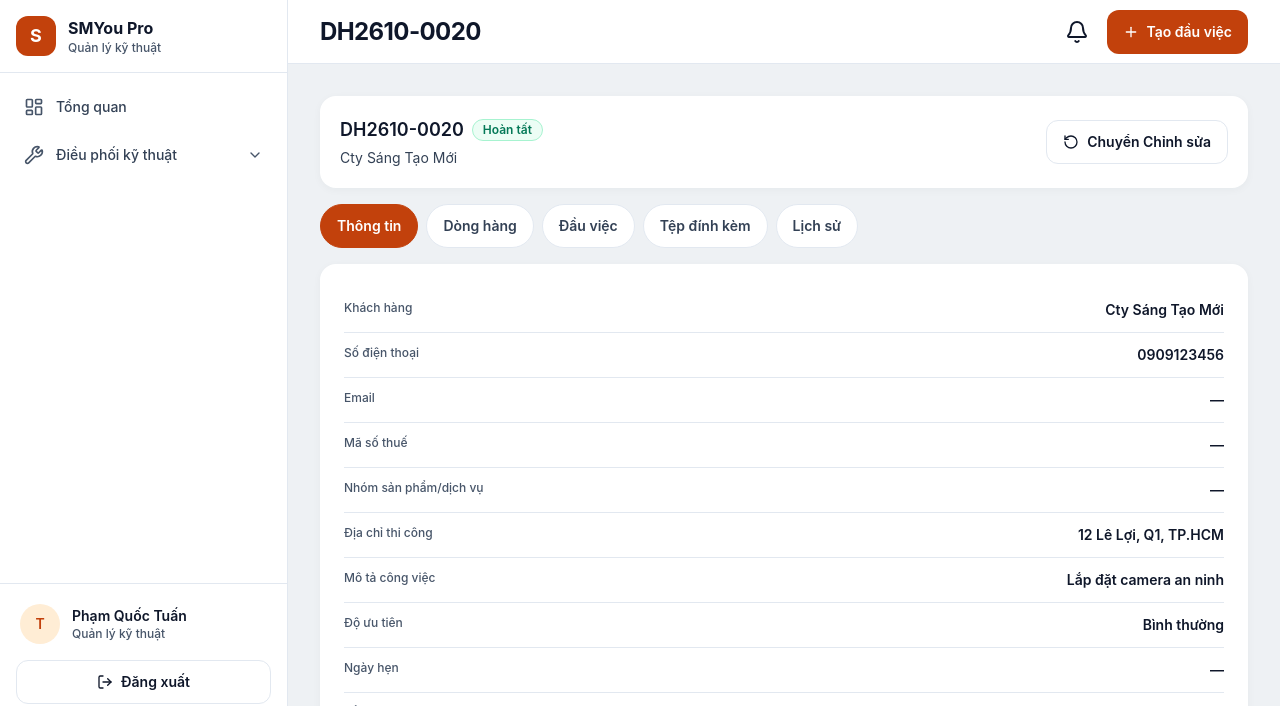
Chuyển Chỉnh sửa (M6-03b) › AC-ORD-155 STALE_VERSION khi xác nhận → banner đỏ + nút Tải lại
Expected: the heading "DH2610-0020" is shown, [320,16,481,48]
Step 1. Click the button "Chuyển Chỉnh sửa" → (1137, 142), box [1046,120,1228,164]
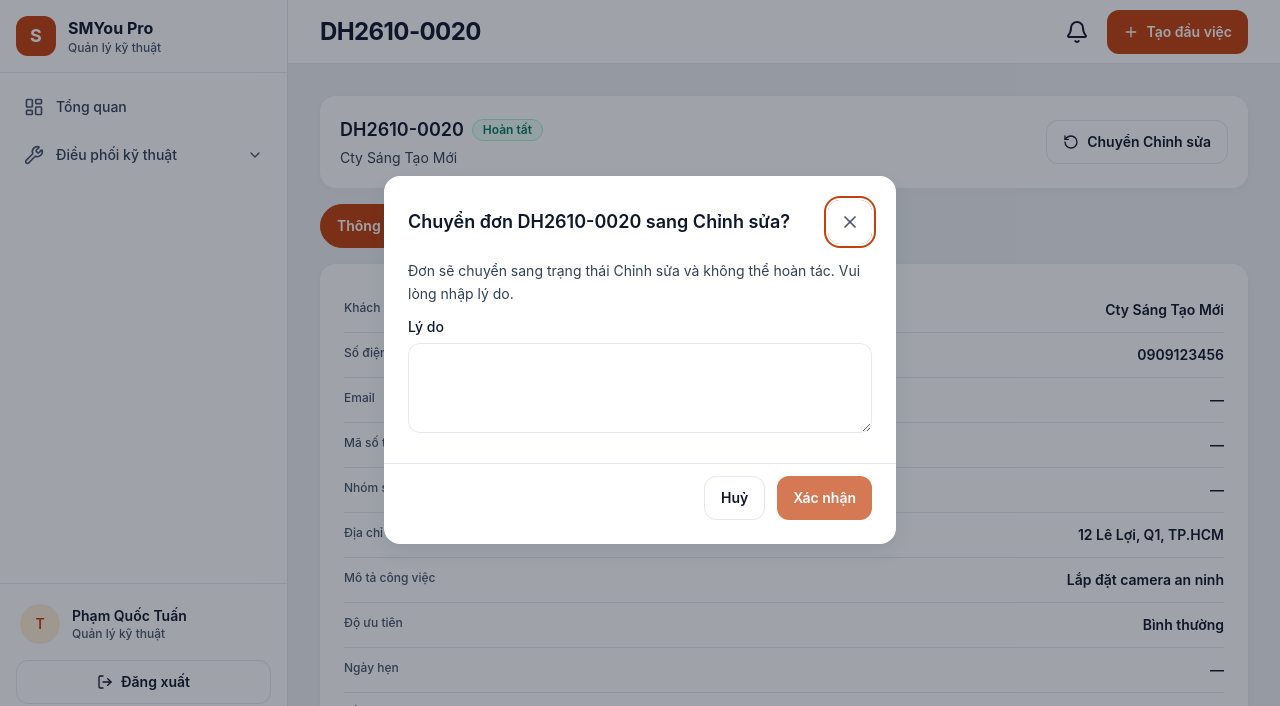
Step 2. Type "Khách yêu cầu chỉnh lại vị trí lắp đặt" into the text box labelled "Lý do" → (640, 388), box [408,343,872,433]
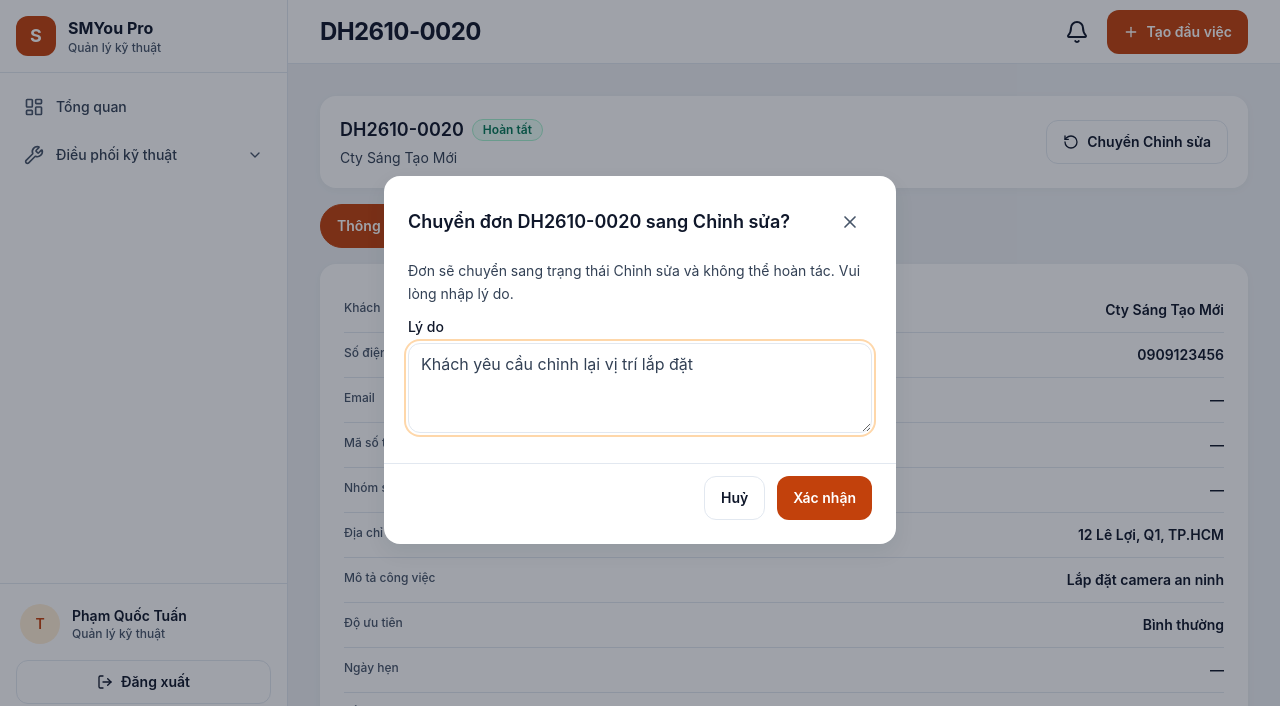
Step 3. Click the button "Xác nhận" → (825, 498), box [777,476,872,520]
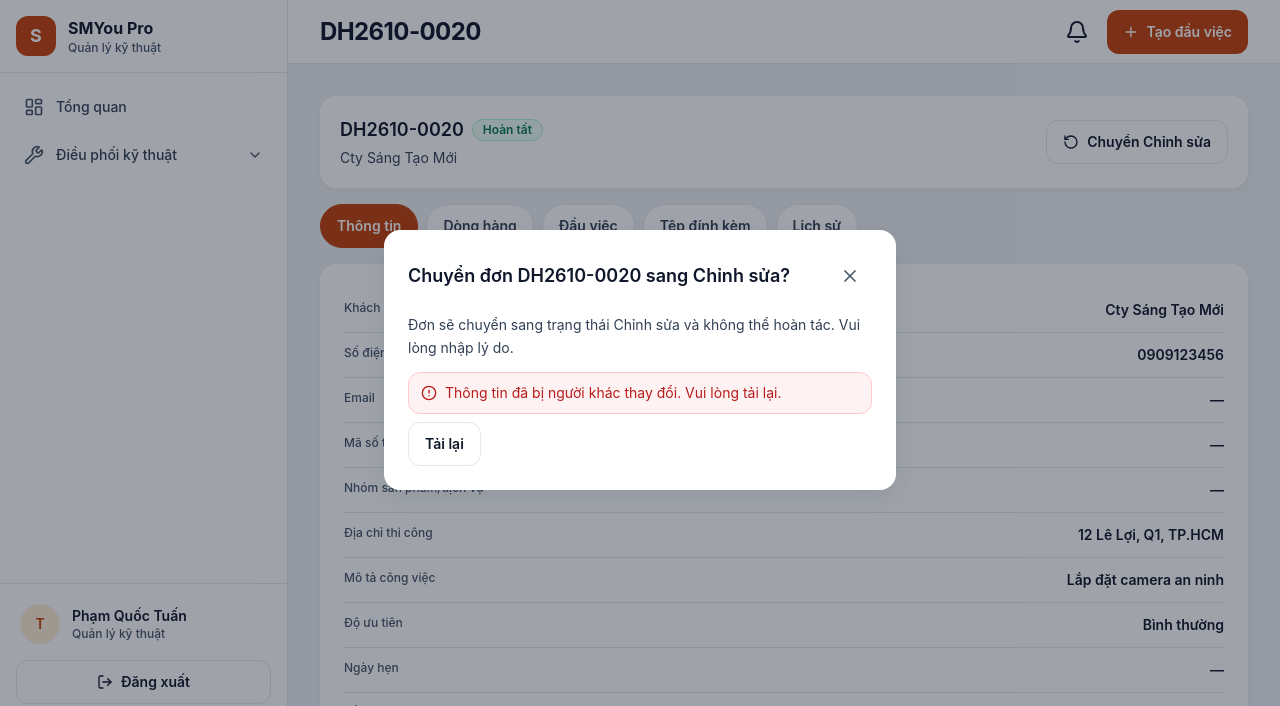
Now the text "Thông tin đã bị người khác thay đổi. Vui lòng tải lại." is shown, box [445,383,782,403]
Now the button "Tải lại" is shown, box [408,422,481,466]
